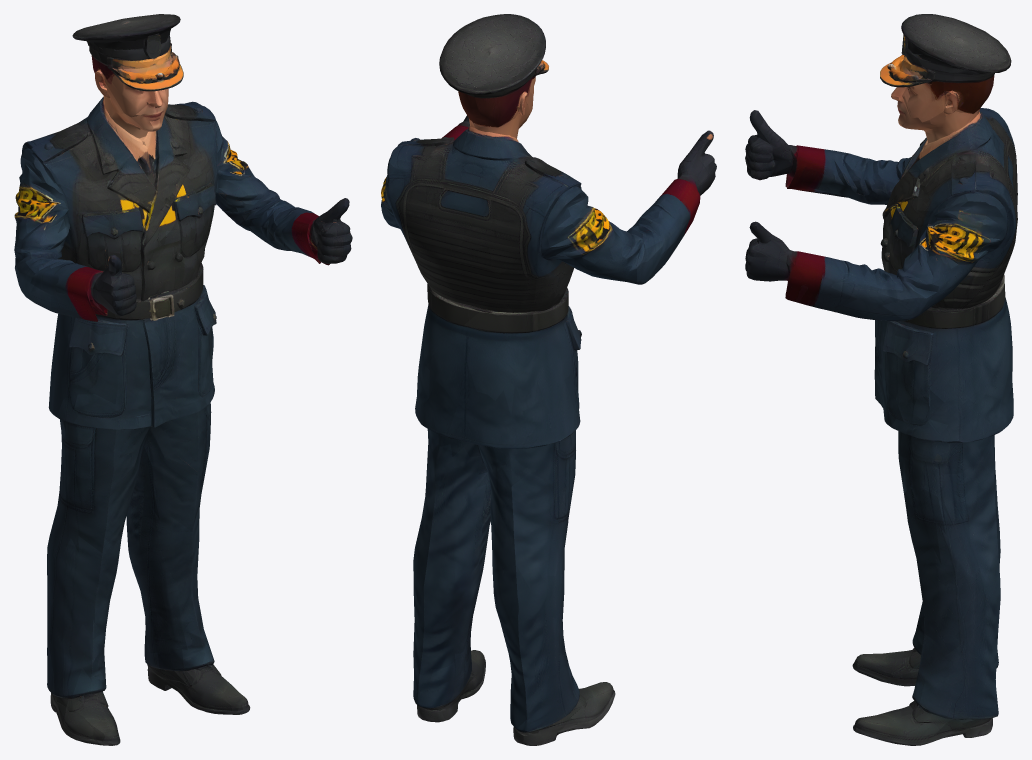
Rendered from fbi-single-textured.glb.
The picture shows the model from 3 angles, left to right: view 1: azimuth 30°, elevation 25°; view 2: azimuth 150°, elevation 25°; view 3: azimuth 270°, elevation 25°; orthographic projection.
Size of the model in its own units: 0.7635 by 1.9 by 0.6877.
1 material, 1 textured.
